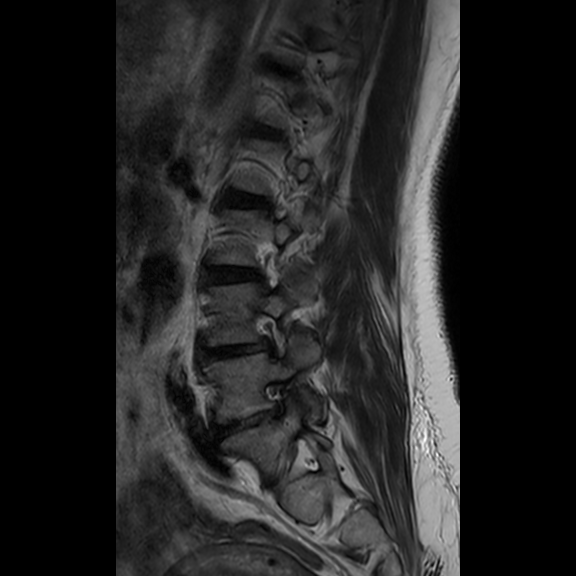LFS1: (246, 306, 292, 365)
LFS3: (251, 371, 297, 430)
